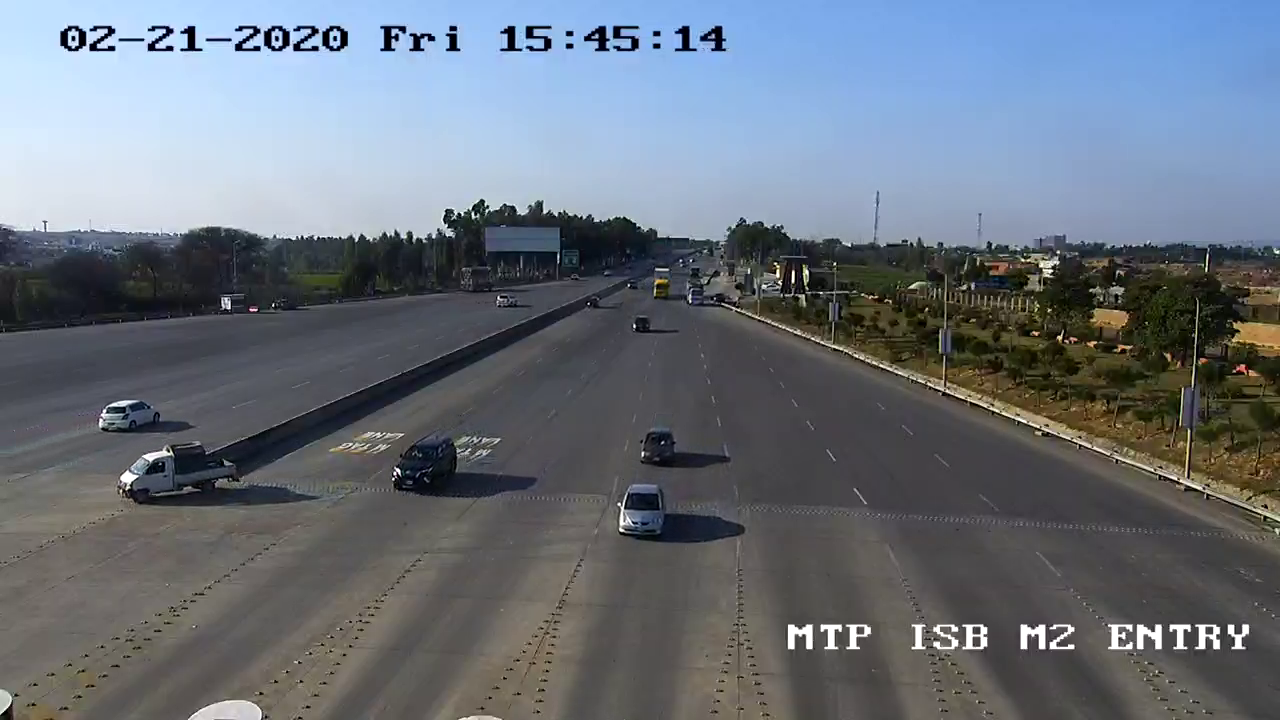f1: (383, 428, 463, 509), (608, 480, 672, 548), (631, 423, 685, 474)
